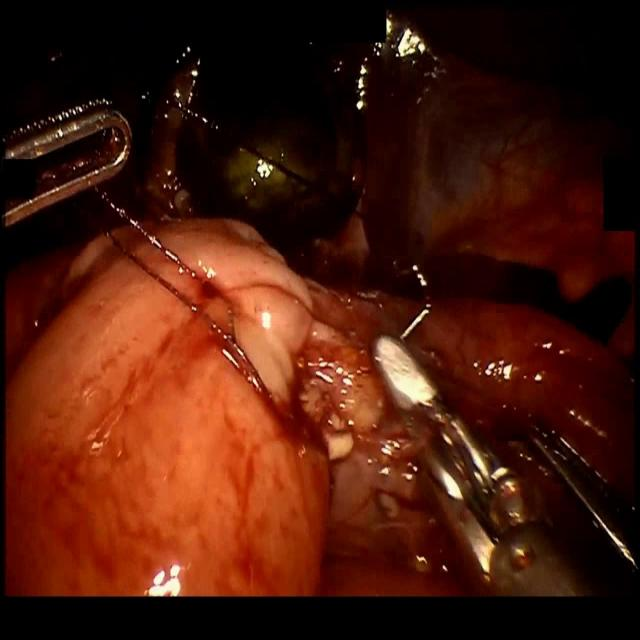surgical-area: (0, 0, 640, 597)
surgical-tool: (372, 329, 632, 601), (0, 93, 137, 236)
